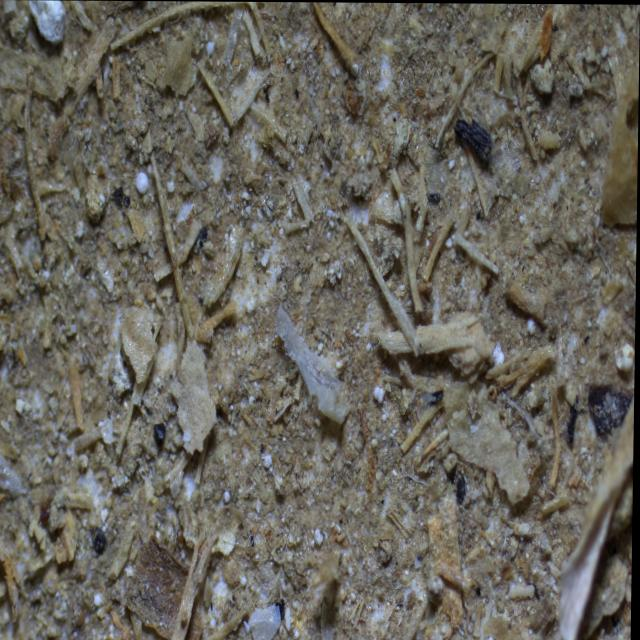microplastic: (259, 297, 367, 432)
